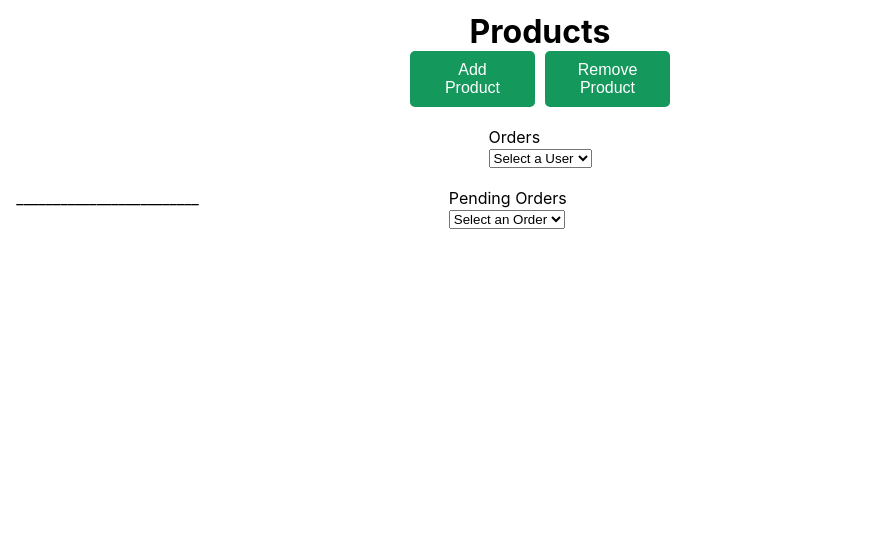
Test: Checkout Process › Admin can remove products
Click the button "Remove Product". click: {"x": 608, "y": 79}
box: [545, 51, 670, 107]
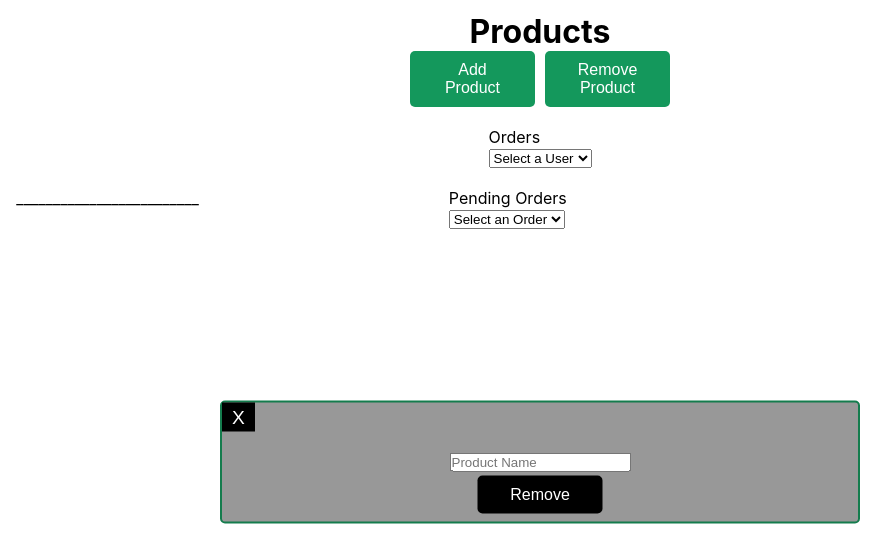
Result: the form with test id "removeProductForm" is shown at [450, 452, 630, 472]
